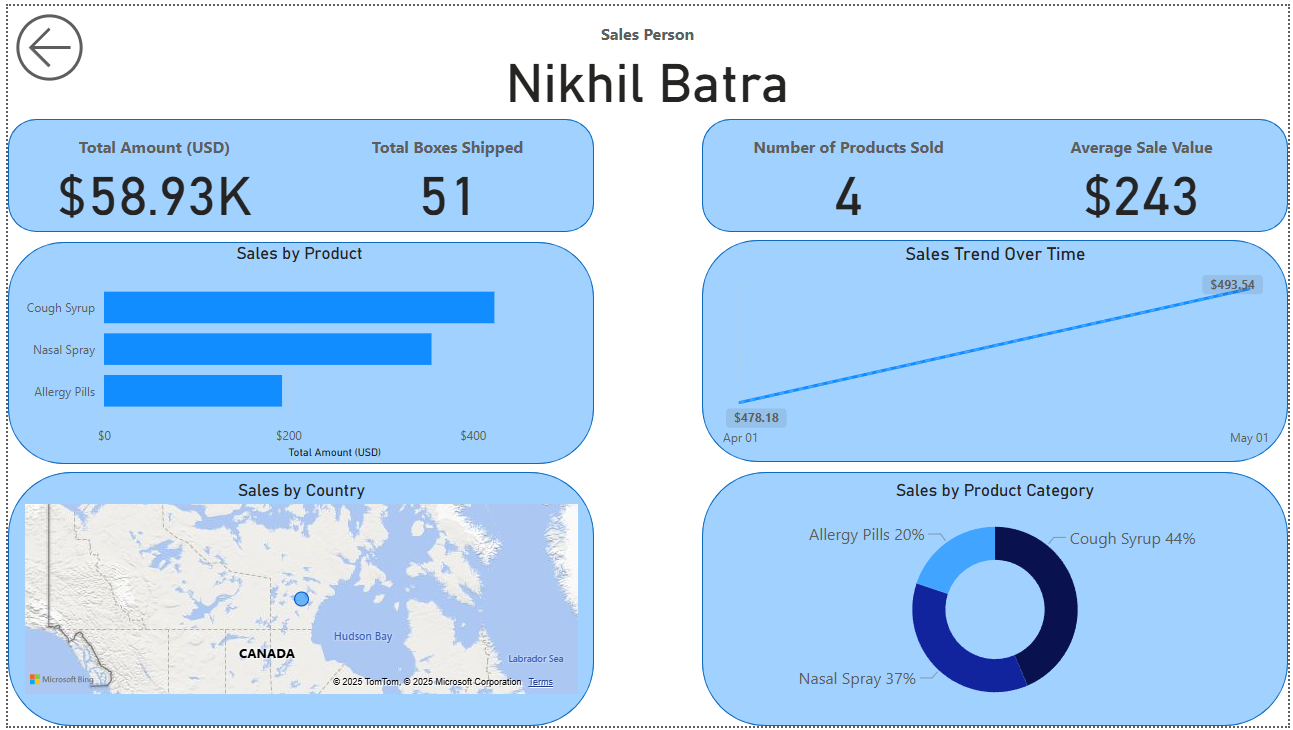

The dashboard page shown, as its layout file describes it:
{"tool":"powerbi","page":{"name":"Drill Through","canvas":[1280,720],"ordinal":1},"visuals":[{"type":"group","id":"g1","title":"BackGround","box":[0,113.1,1280.2,606.9],"z":0},{"type":"shape","box":[0,113.1,586.2,113.1],"z":0,"group":"g1"},{"type":"cardVisual","fields":{"Data":["Min(sales_export_20251021_234047.sales_person)"]},"box":[376.2,0,527,113.1],"z":1000},{"type":"shape","box":[694,113.1,586.2,113.1],"z":1000,"group":"g1"},{"type":"actionButton","box":[0,0,99.7,82.6],"z":2000},{"type":"shape","box":[0,236.1,586.2,221.7],"z":2000,"group":"g1"},{"type":"cardVisual","fields":{"Data":["Sum(kpi_summary_20251021_234047.total_revenue)"]},"box":[0,112.9,293.1,112.9],"z":3000},{"type":"shape","box":[0,465.9,586.2,254.1],"z":3000,"group":"g1"},{"type":"cardVisual","fields":{"Data":["Sum(sales_export_20251021_234047.boxes_shipped)"]},"box":[292.7,113.1,293.6,113.1],"z":4000},{"type":"shape","box":[694,234.3,586.2,221.7],"z":4000,"group":"g1"},{"type":"cardVisual","fields":{"Data":["Avg(sales_export_20251021_234047.amount_usd)"]},"box":[986.9,112.9,293.1,112.9],"z":5000},{"type":"shape","box":[694,465.9,586.2,254.1],"z":5000,"group":"g1"},{"type":"cardVisual","fields":{"Data":["deal_size_20251021_234047.Total Transactions"]},"box":[693.8,112.9,293.1,112.9],"z":6000},{"type":"barChart","title":"Sales by Product","fields":{"Category":["sales_export_20251021_234047.product"],"Y":["Sum(sales_export_20251021_234047.amount_usd)"]},"box":[8.1,237,586.2,220],"z":7000},{"type":"map","title":"Sales by Country","fields":{"Category":["sales_export_20251021_234047.country"],"Size":["Sum(sales_export_20251021_234047.amount_usd)"]},"box":[11.7,449.8,562.9,243.3],"z":8000},{"type":"lineChart","title":"Sales Trend Over Time","fields":{"Y":["Sum(sales_export_20251021_234047.amount_usd)"],"Category":["sales_export_20251021_234047.sale_date.Variation.Date Hierarchy.Year","sales_export_20251021_234047.sale_date.Variation.Date Hierarchy.Quarter","sales_export_20251021_234047.sale_date.Variation.Date Hierarchy.Month"]},"box":[709.2,237,556.6,212.8],"z":9000},{"type":"donutChart","title":"Sales by Product Category","fields":{"Y":["Sum(sales_export_20251021_234047.amount_usd)"],"Category":["sales_export_20251021_234047.product"]},"box":[694,474,586.2,239.7],"z":10000}]}

Visuals, with their boxes in screenshot pixels (x1, y1, x2, y2), scaled from the page's 1280x720 canvas onto the 1293x730 screenshot:
"BackGround" group: <bbox>0, 115, 1292, 729</bbox>
shape: <bbox>0, 115, 592, 229</bbox>
cardVisual - Min(sales_export_20251021_234047.sales_person): <bbox>380, 0, 912, 115</bbox>
shape: <bbox>701, 115, 1292, 229</bbox>
actionButton: <bbox>0, 0, 101, 84</bbox>
shape: <bbox>0, 239, 592, 464</bbox>
cardVisual - Sum(kpi_summary_20251021_234047.total_revenue): <bbox>0, 114, 296, 229</bbox>
shape: <bbox>0, 472, 592, 729</bbox>
cardVisual - Sum(sales_export_20251021_234047.boxes_shipped): <bbox>296, 115, 592, 229</bbox>
shape: <bbox>701, 238, 1292, 462</bbox>
cardVisual - Avg(sales_export_20251021_234047.amount_usd): <bbox>997, 114, 1292, 229</bbox>
shape: <bbox>701, 472, 1292, 729</bbox>
cardVisual - deal_size_20251021_234047.Total Transactions: <bbox>701, 114, 997, 229</bbox>
"Sales by Product" barChart: <bbox>8, 240, 600, 463</bbox>
"Sales by Country" map: <bbox>12, 456, 580, 703</bbox>
"Sales Trend Over Time" lineChart: <bbox>716, 240, 1279, 456</bbox>
"Sales by Product Category" donutChart: <bbox>701, 481, 1292, 724</bbox>
